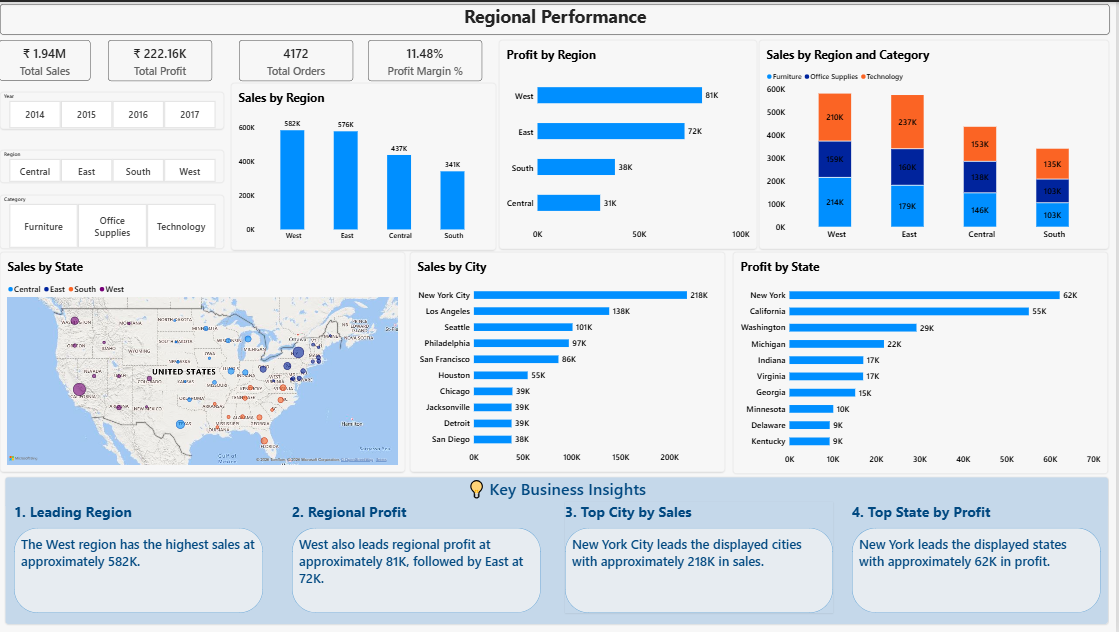

The dashboard page shown, as its layout file describes it:
{"tool":"powerbi","page":{"name":"Regional Performance","canvas":[2560,1440],"ordinal":3},"visuals":[{"type":"textbox","title":"Regional Performance","box":[8.1,5.4,2535.7,70.1],"z":0},{"type":"card","fields":{"Values":["All Measures.Total Sales"]},"box":[6.9,87.4,209.1,92.6],"z":1000},{"type":"card","fields":{"Values":["All Measures.Total Profit"]},"box":[256,86.9,237.7,93.7],"z":2000},{"type":"card","fields":{"Values":["All Measures.Total Orders"]},"box":[555.4,86.9,260.6,93.7],"z":3000},{"type":"card","fields":{"Values":["All Measures.Profit Margin %"]},"box":[850.3,86.9,260.6,93.7],"z":4000},{"type":"clusteredColumnChart","title":"Sales by Region","fields":{"Category":["Dim_Geography.Region"],"Y":["All Measures.Total Sales"]},"box":[537.1,185.1,605.7,381.7],"z":5000},{"type":"clusteredBarChart","title":"Profit by Region","fields":{"Category":["Dim_Geography.Region"],"Y":["All Measures.Total Profit"]},"box":[1149.7,86.9,589.7,477.7],"z":6000},{"type":"map","title":"Sales by State","fields":{"Category":["Dim_Geography.State"],"Series":["Dim_Geography.Region"],"Size":["All Measures.Total Sales"]},"box":[9.1,571.4,925.7,502.9],"z":7000},{"type":"clusteredBarChart","title":"Sales by City","fields":{"Category":["Dim_Geography.City"],"Y":["All Measures.Total Sales"]},"box":[946.3,571.4,720,502.9],"z":8000},{"type":"columnChart","title":"Sales by Region and Category","fields":{"Category":["Dim_Geography.Region"],"Series":["Dim_Product.Category"],"Y":["All Measures.Total Sales"]},"box":[1744,86.9,800,477.7],"z":9000},{"type":"clusteredBarChart","title":"Profit by State","fields":{"Category":["Dim_Geography.State"],"Y":["All Measures.Total Profit"]},"box":[1684.6,571.4,857.1,507.4],"z":10000},{"type":"slicer","fields":{"Values":["Dim_Date.Year"]},"box":[9.1,205.7,512,84.6],"z":11000},{"type":"slicer","fields":{"Values":["Dim_Geography.Region"]},"box":[9.1,338.3,512,75.4],"z":12000},{"type":"slicer","fields":{"Values":["Dim_Product.Category"]},"box":[9.1,441.1,512,123.4],"z":13000},{"type":"textbox","title":"💡 Key Business Insights","box":[21.6,1086,2522.3,336.8],"z":14000},{"type":"shape","title":"1. Leading Region","box":[40.4,1142.6,569.1,253.7],"z":15000},{"type":"shape","title":"2. Regional Profit","box":[676.4,1142.6,568.6,253.3],"z":16000},{"type":"shape","title":"3. Top City by Sales","box":[1301.6,1142.6,569.1,253.7],"z":17000},{"type":"shape","title":"4. Top State by Profit","box":[1956.4,1142.6,568.6,253.3],"z":18000}]}

Visuals, with their boxes in screenshot pixels (x1, y1, x2, y2), scaled from the page's 2560x1440 canvas onto the 1119x632 screenshot:
"Regional Performance" textbox: left=4, top=2, right=1112, bottom=33
card - All Measures.Total Sales: left=3, top=38, right=94, bottom=79
card - All Measures.Total Profit: left=112, top=38, right=216, bottom=79
card - All Measures.Total Orders: left=243, top=38, right=357, bottom=79
card - All Measures.Profit Margin %: left=372, top=38, right=486, bottom=79
"Sales by Region" clusteredColumnChart: left=235, top=81, right=500, bottom=249
"Profit by Region" clusteredBarChart: left=503, top=38, right=760, bottom=248
"Sales by State" map: left=4, top=251, right=409, bottom=471
"Sales by City" clusteredBarChart: left=414, top=251, right=728, bottom=471
"Sales by Region and Category" columnChart: left=762, top=38, right=1112, bottom=248
"Profit by State" clusteredBarChart: left=736, top=251, right=1111, bottom=473
slicer - Dim_Date.Year: left=4, top=90, right=228, bottom=127
slicer - Dim_Geography.Region: left=4, top=148, right=228, bottom=182
slicer - Dim_Product.Category: left=4, top=194, right=228, bottom=248
"💡 Key Business Insights" textbox: left=9, top=477, right=1112, bottom=624
"1. Leading Region" shape: left=18, top=501, right=266, bottom=613
"2. Regional Profit" shape: left=296, top=501, right=544, bottom=613
"3. Top City by Sales" shape: left=569, top=501, right=818, bottom=613
"4. Top State by Profit" shape: left=855, top=501, right=1104, bottom=613
